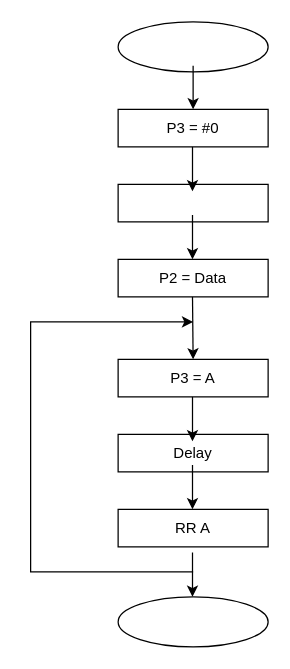
Image size: 290x669. Some labels were removed from this diagram. Here are the shapes that lost their labels. From the top down, the box of each, then its label:
(117, 21, 268, 72): Start
(117, 183, 268, 222): A = #01H
(117, 596, 268, 647): End
